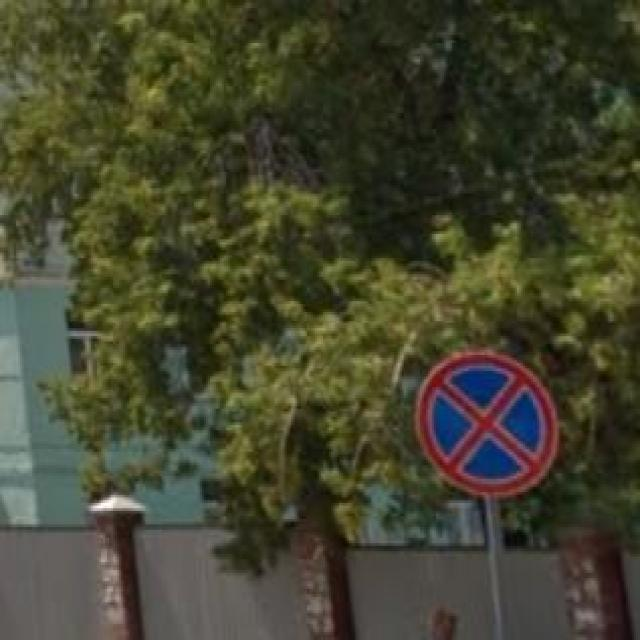Zakaz zatrzymywania sie: (414, 350, 557, 498)
